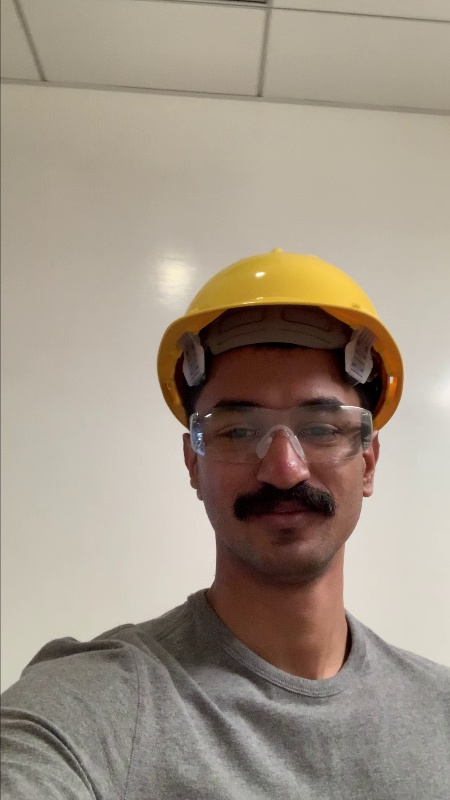glasses: (189, 405, 372, 461)
helmet: (163, 247, 390, 336)
